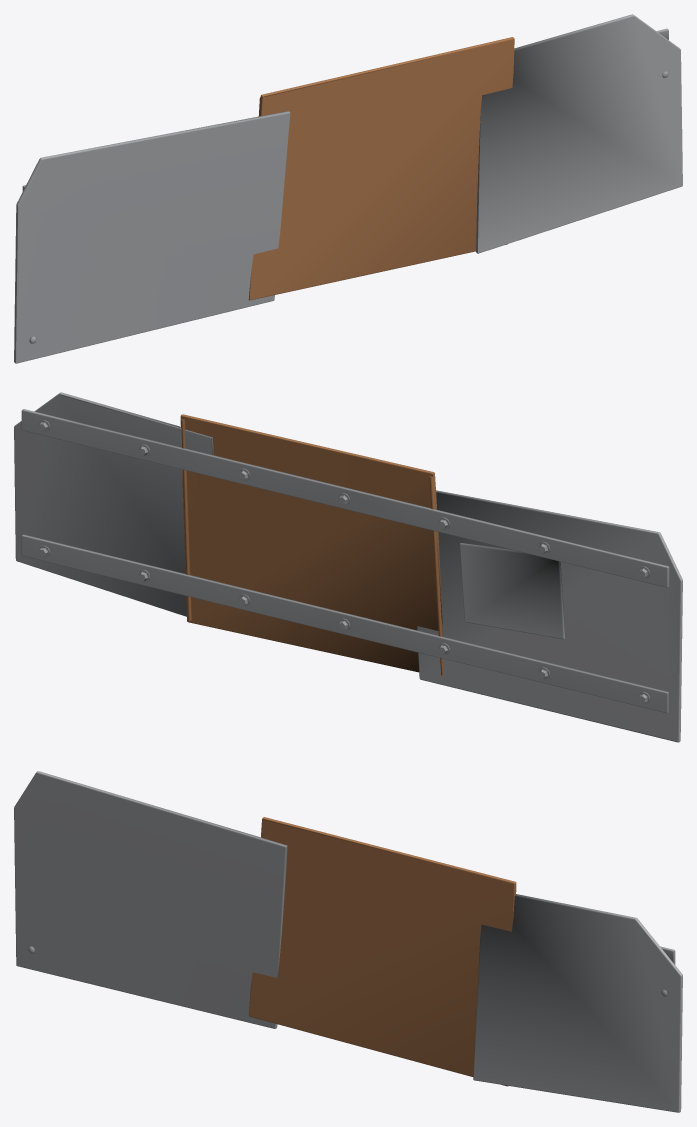
Rendered from arm_plates.glb.
3 renders of one model, top to bottom at view 1: azimuth 30°, elevation 25°; view 2: azimuth 150°, elevation 25°; view 3: azimuth 330°, elevation 25°, orthographic.
Visible parts, largest first — view 1: PART; view 2: PART; view 3: PART.
Part boxes in pixels (left/top/right/bottom): PART: left=14, top=14, right=682, bottom=363; PART: left=14, top=392, right=682, bottom=742; PART: left=14, top=771, right=682, bottom=1112.
Size of the model in its own units: 2 by 0.5999 by 0.0459.
